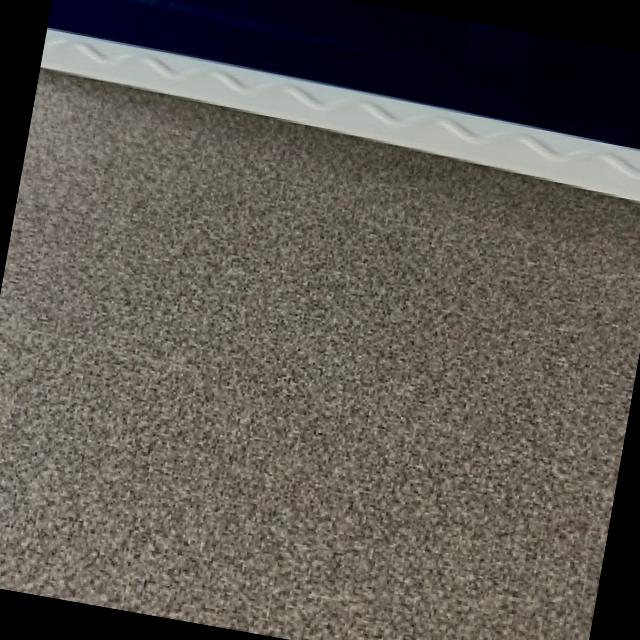healthy: (0, 0, 640, 640), (43, 0, 640, 199)
